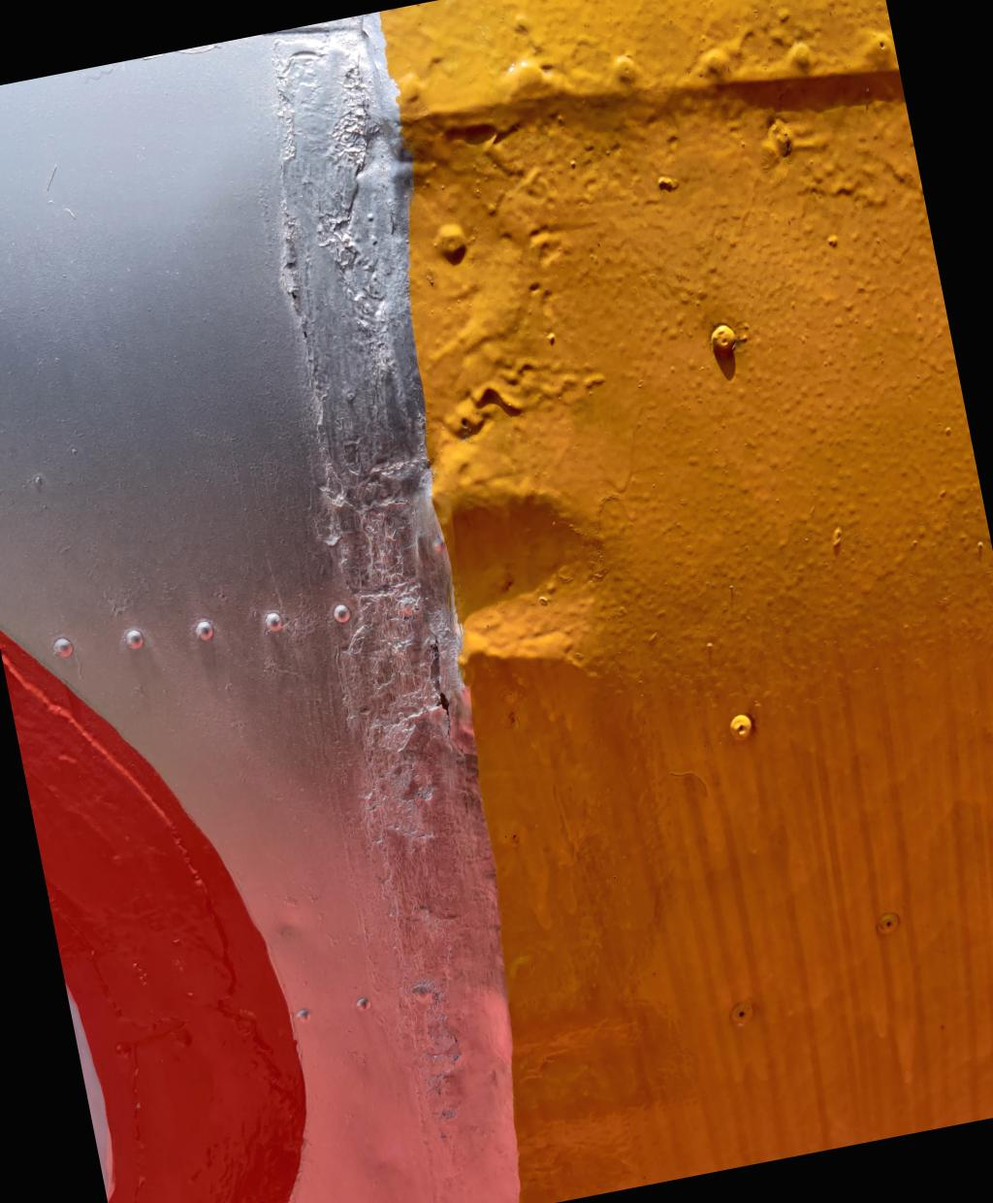dent: (368, 383, 681, 756)
